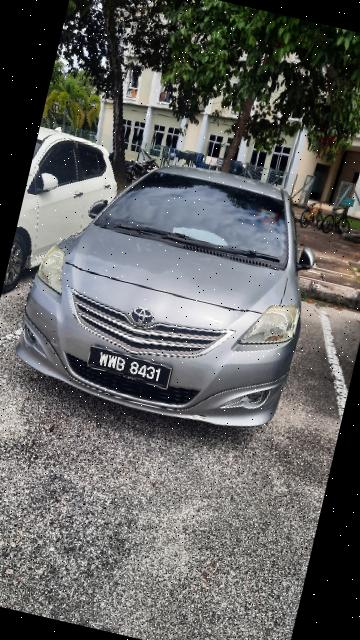License_Plate: (77, 337, 185, 398)
car: (8, 127, 343, 458)
